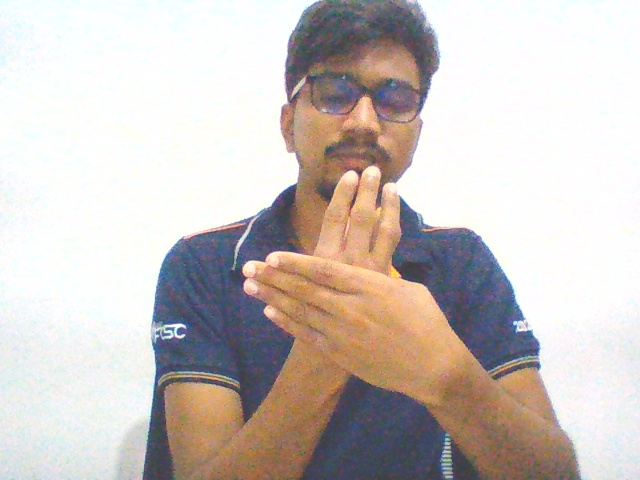tree: (231, 159, 462, 414)
